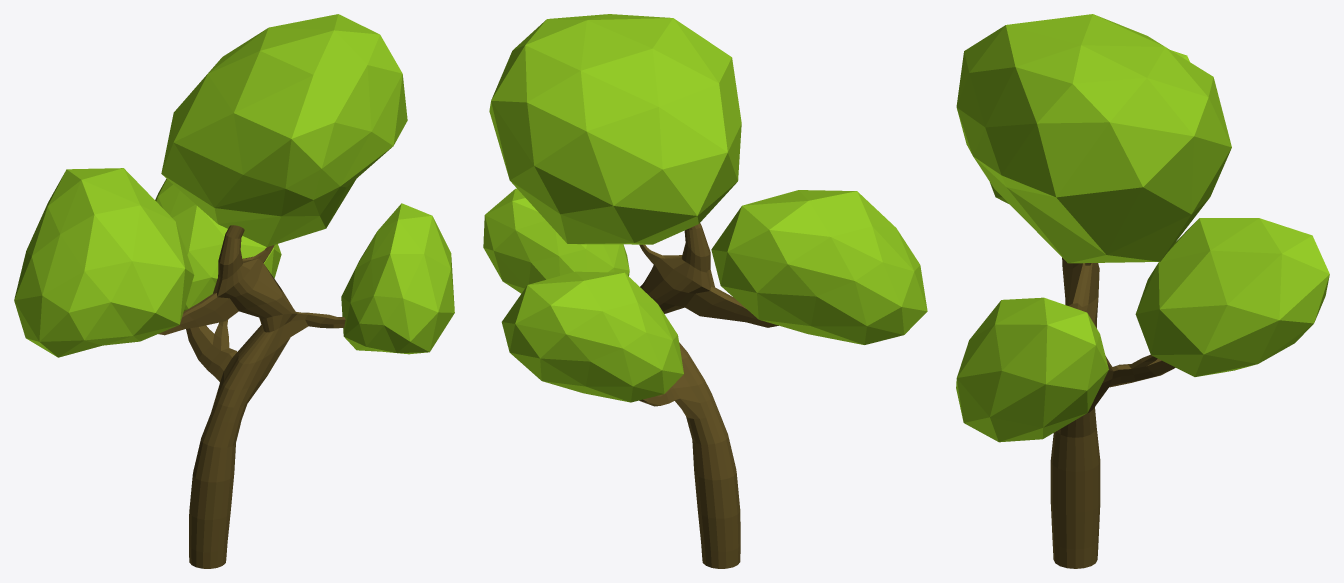
The model's file is springTree.fbx.
3 renders of one model, left to right at view 1: azimuth 30°, elevation 25°; view 2: azimuth 150°, elevation 25°; view 3: azimuth 270°, elevation 25°, orthographic. The views are drawn at different scales.
Parts seen in each view (by area): view 1: leaves.002, leaves.003, trunk, leaves.001, leaves; view 2: leaves.002, leaves.003, leaves, trunk, leaves.001; view 3: leaves.002, leaves, leaves.001, trunk.
Boxes of the visible parts, box(x1,y1,x2,y2) form: leaves.002: box(161, 14, 407, 246); leaves.003: box(14, 168, 194, 357); trunk: box(158, 225, 345, 568); leaves.001: box(341, 203, 454, 354); leaves: box(155, 178, 281, 311); leaves.002: box(489, 14, 741, 244); leaves.003: box(711, 190, 927, 344); leaves: box(501, 271, 683, 402); trunk: box(639, 223, 778, 568); leaves.001: box(483, 188, 629, 293); leaves.002: box(956, 14, 1231, 263); leaves: box(1135, 218, 1329, 376); leaves.001: box(956, 297, 1108, 442); trunk: box(1050, 257, 1175, 568).
Size of the model in its own units: 453 by 518 by 298.
